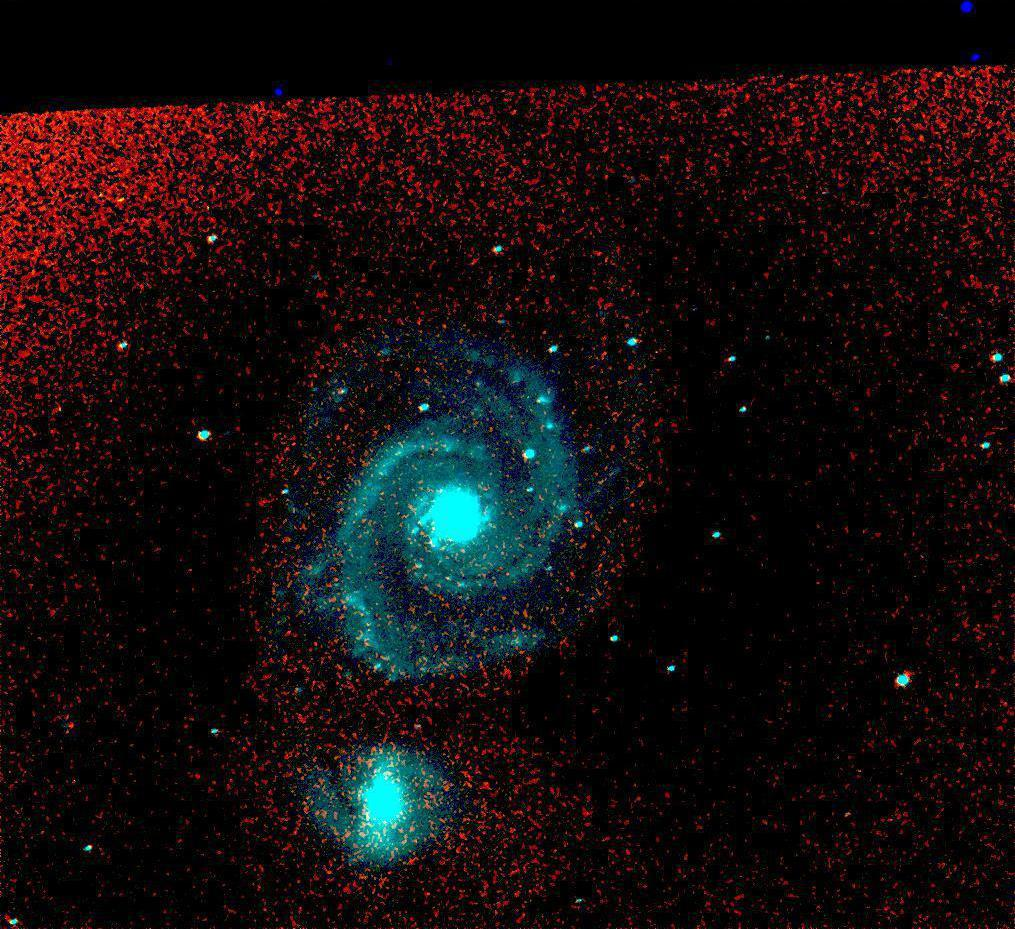star: (437, 528, 467, 558)
